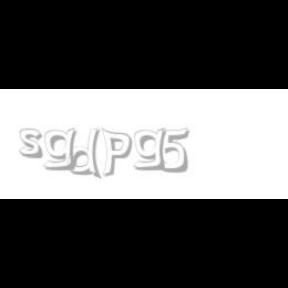5: (158, 128, 189, 174)
P: (100, 128, 132, 178)
d: (68, 128, 104, 180)
g: (44, 128, 80, 171), (134, 128, 170, 171)
s: (19, 128, 47, 160)
